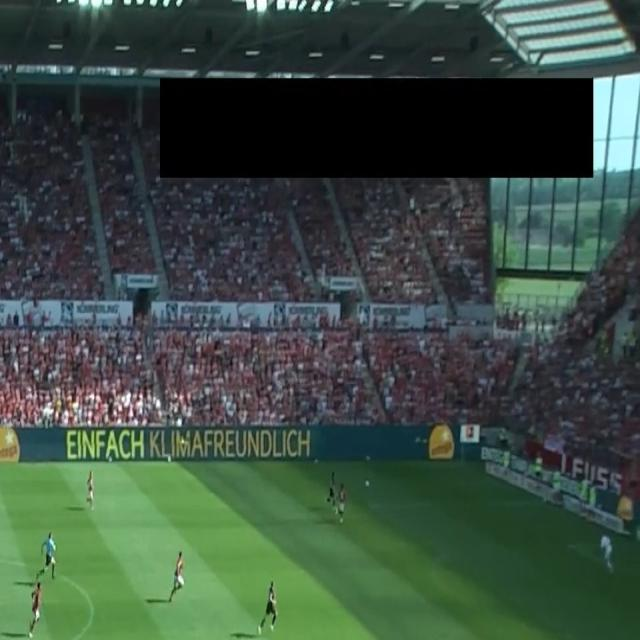ball: (365, 479, 369, 487)
